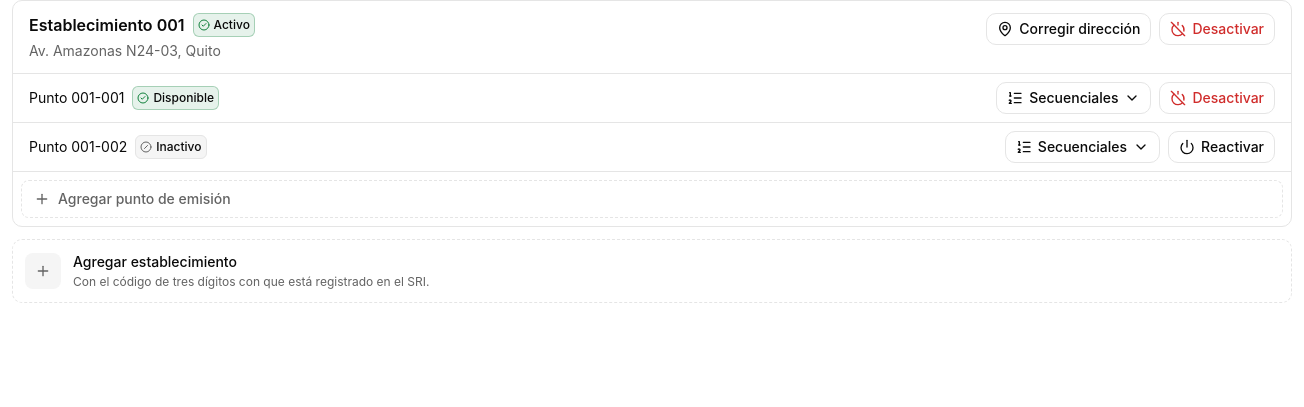
secuenciales de cada punto (design D14) › un punto sin secuenciales en el ambiente lo explica
Click the button with aria-label "Secuenciales del punto 001-002" at (1082, 147), box [1005, 131, 1160, 163]
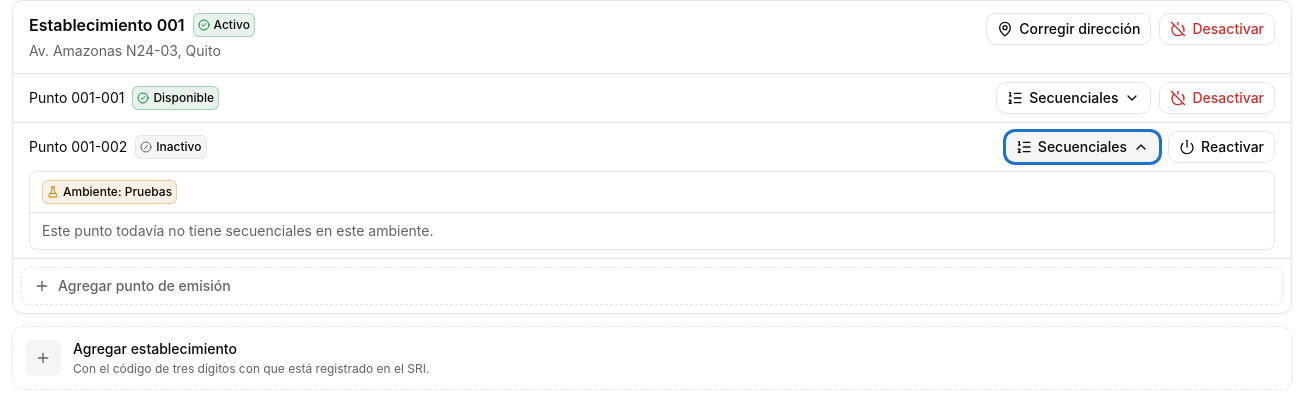
Result: the text "Este punto todavía no tiene secuenciales en este ambiente." is shown at [42, 222, 434, 239]
